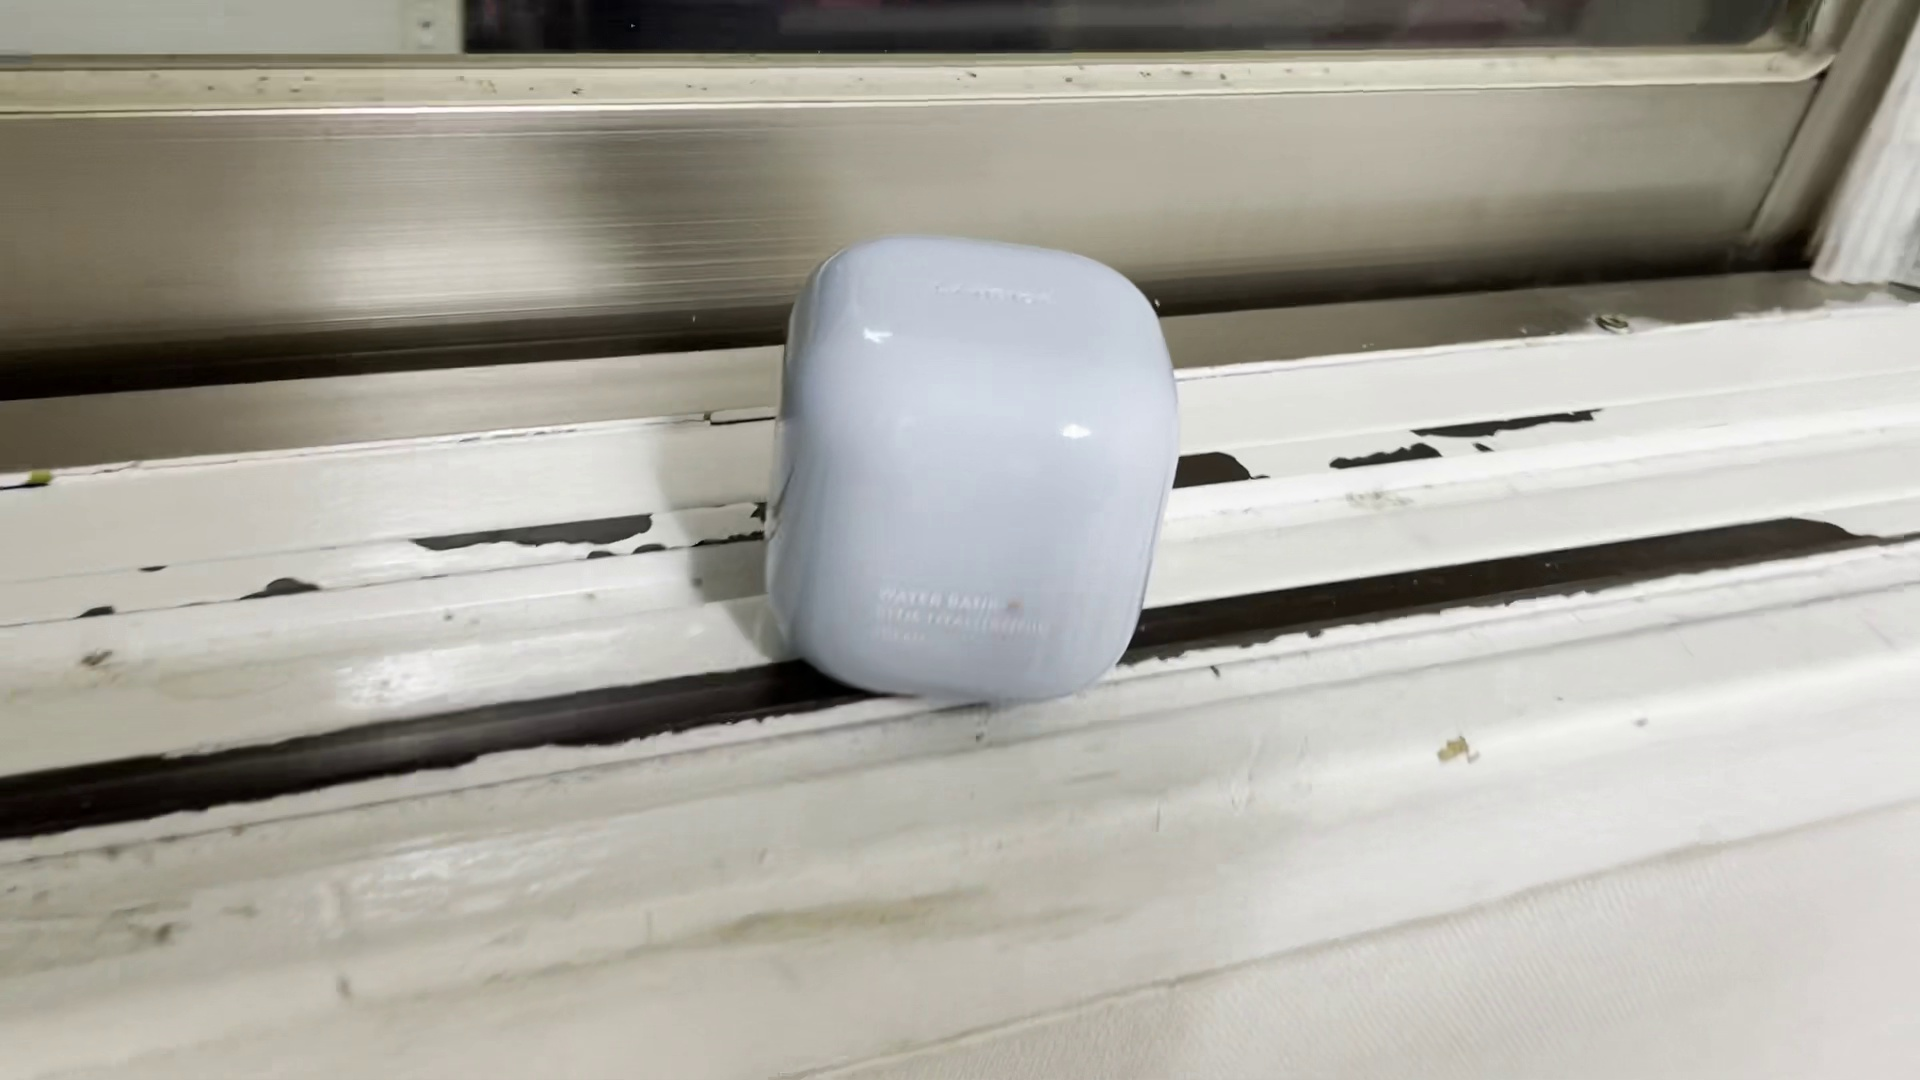cream: (769, 235, 1175, 707)
